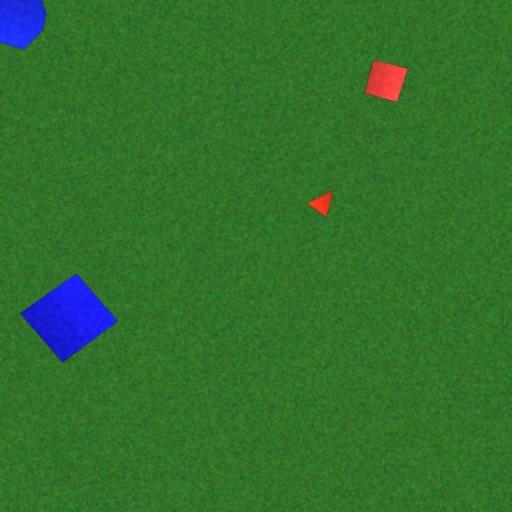BLUE_SQUARE: (20, 273, 118, 363)
RED_SQUARE: (364, 59, 409, 103)
